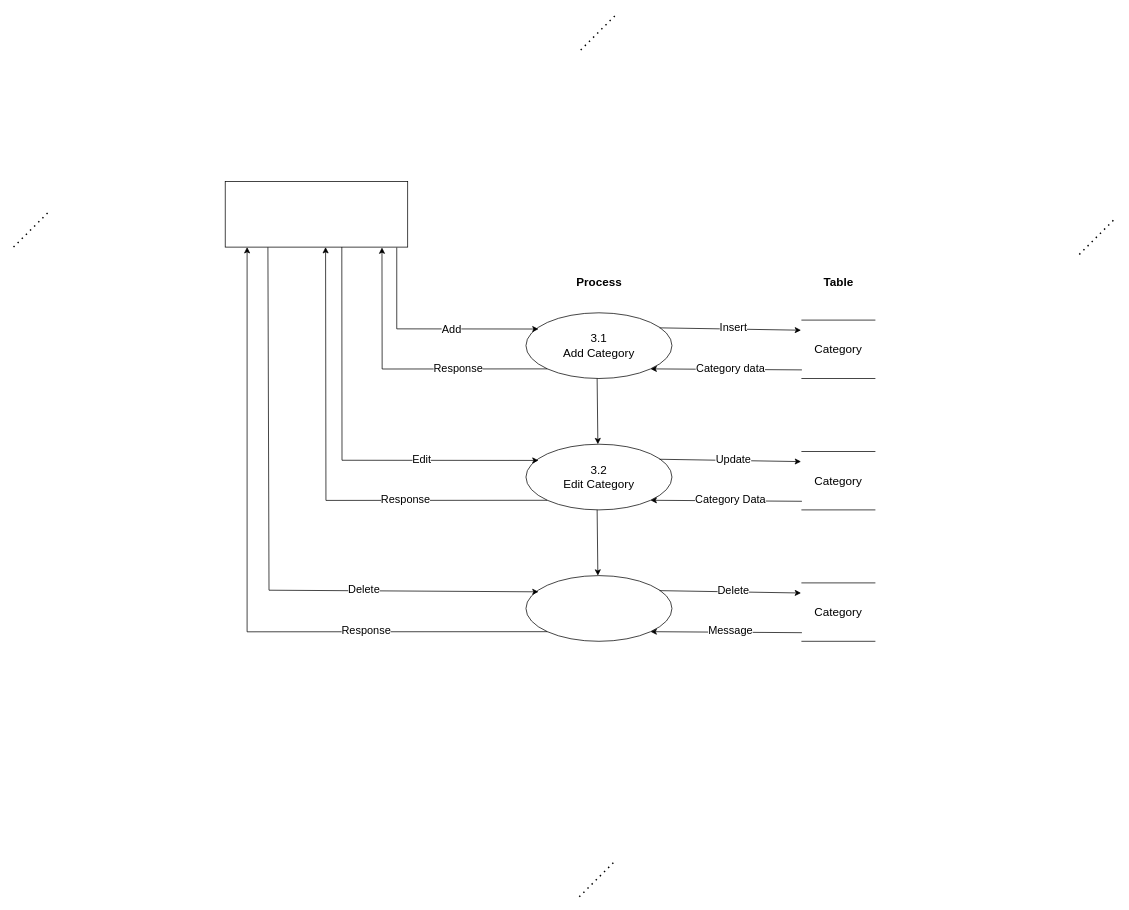
Image size: 1129x910. Some labels were removed from this diagram. The shapes that lost their labels are listed below. From the top down, each one's centre as x and y in pixels, then its label:
At [316,214]: "Admin".
At [598,608]: "3.3 Delete Category".
